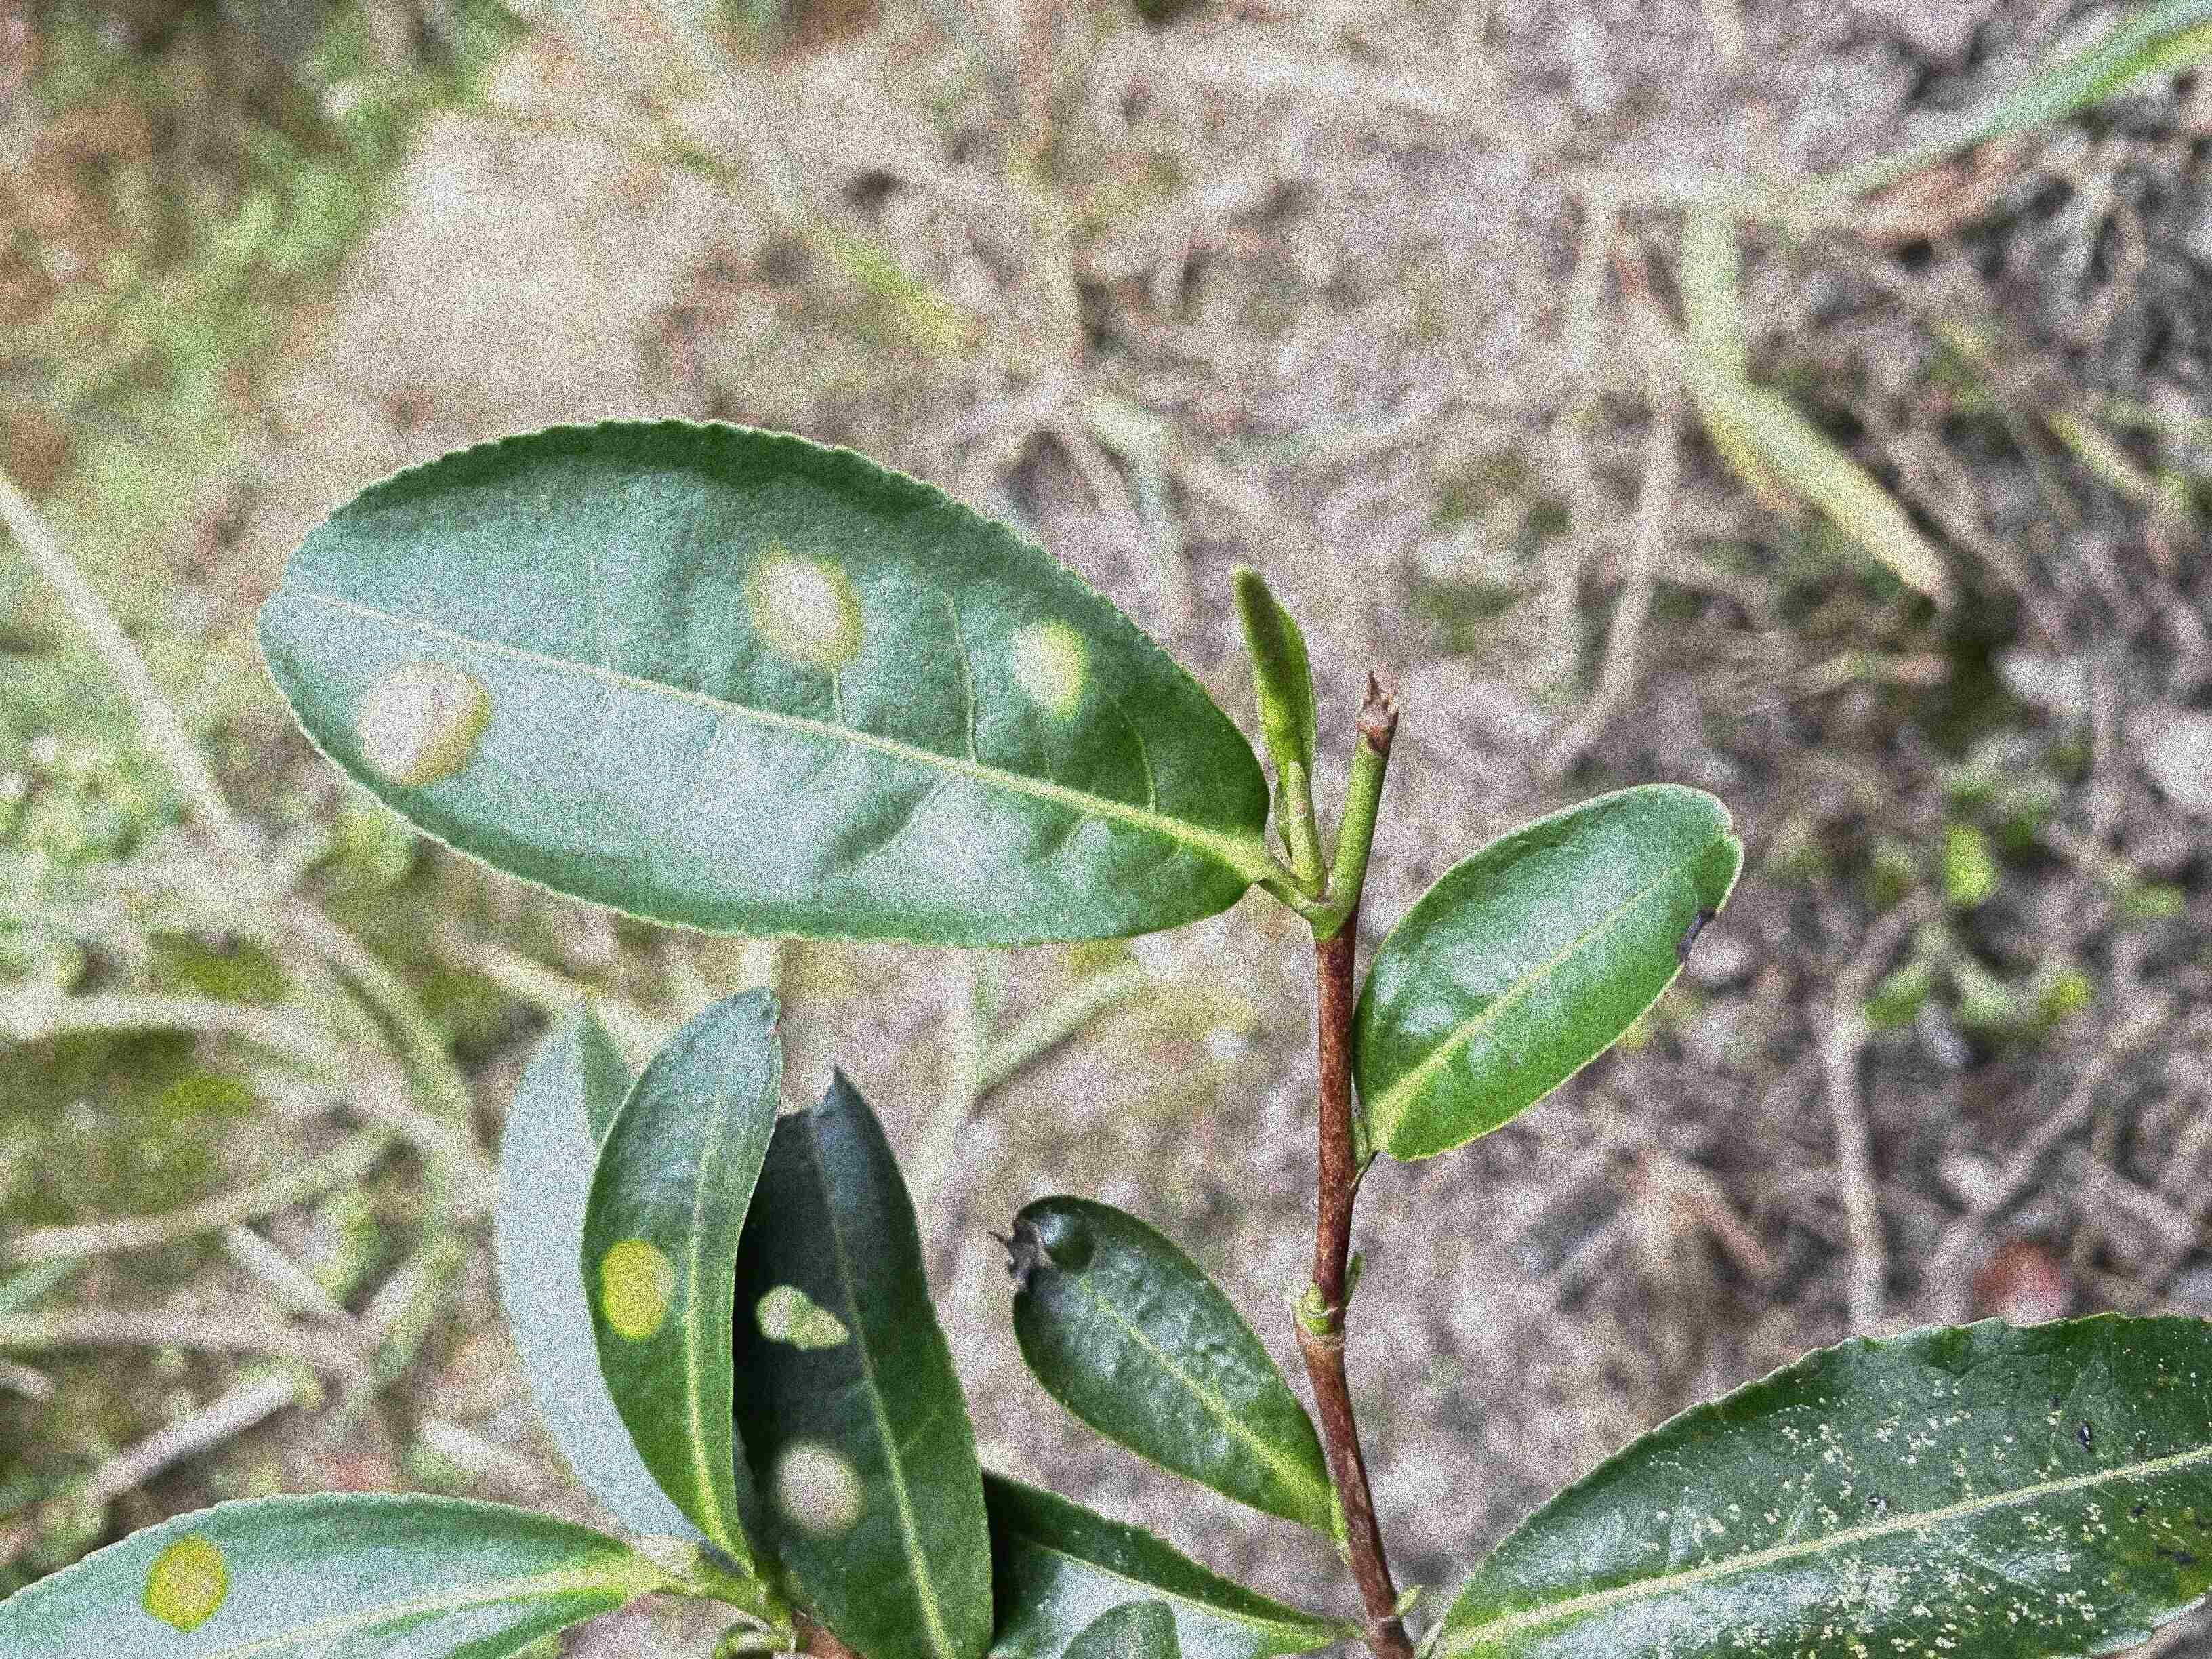chabing_high: (256, 416, 1271, 948), (733, 1061, 1000, 1656)
chabing_low: (578, 988, 789, 1563), (0, 1492, 639, 1659)
tanju_low: (1350, 779, 1747, 1162)
